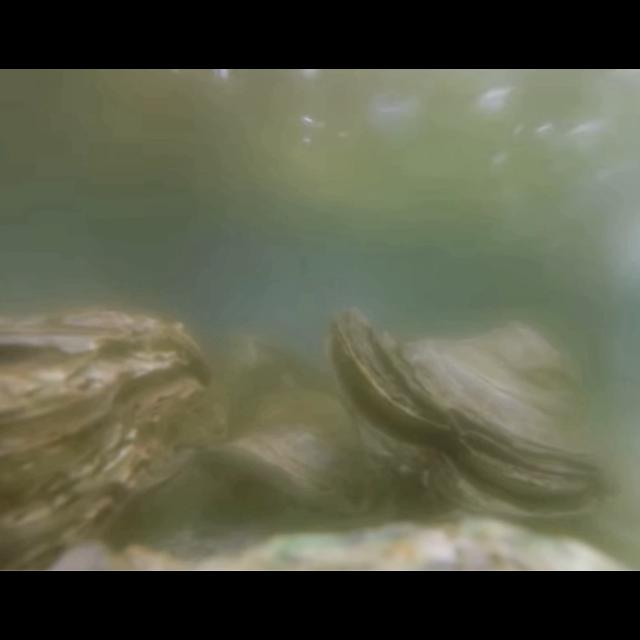Oyster-Closed: (0, 307, 230, 571), (206, 390, 400, 520)
Oyster-Open: (324, 306, 636, 528)
